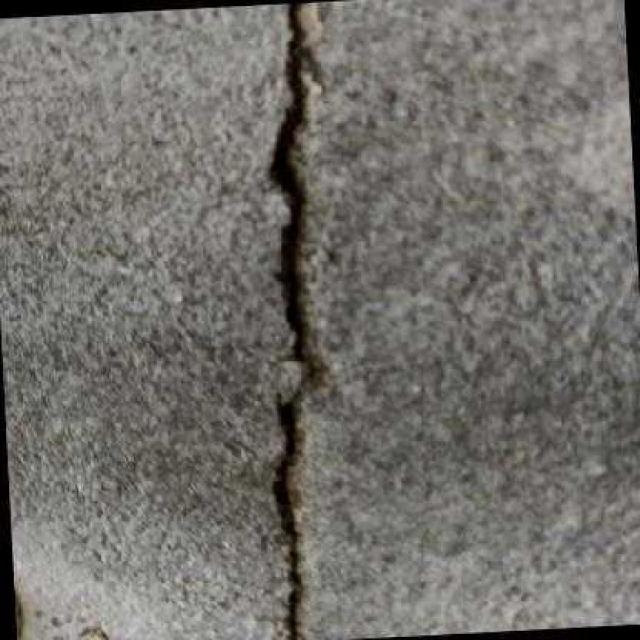D00: (266, 1, 322, 640)
